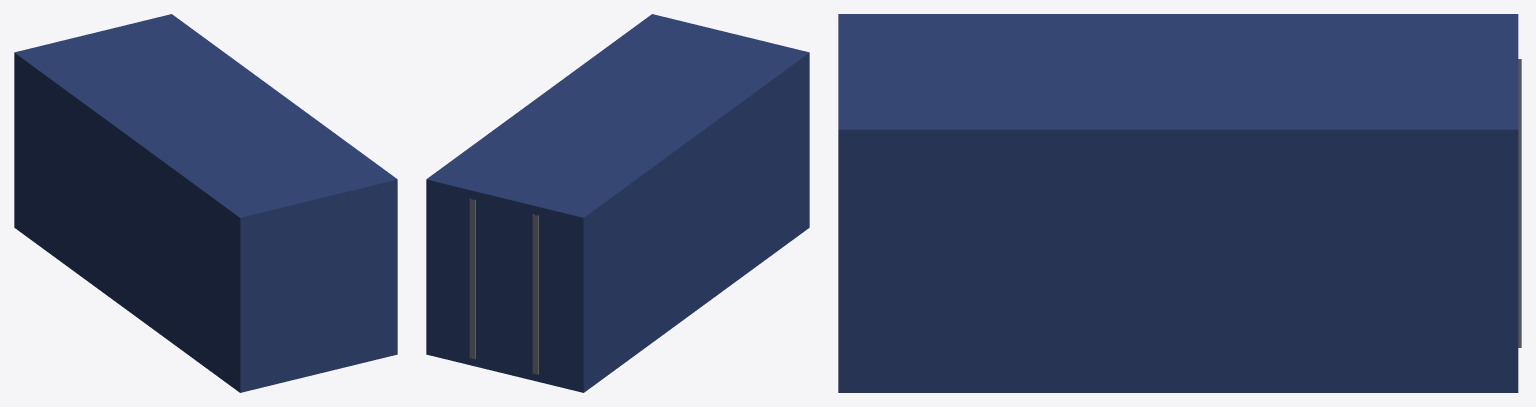
3 views of the same model, side by side, from view 1: azimuth 30°, elevation 25°; view 2: azimuth 150°, elevation 25°; view 3: azimuth 270°, elevation 25° (orthographic). The views are drawn at different scales.
Visible parts, largest first — view 1: 409; view 2: 409; view 3: 409.
Part boxes in pixels (x1=…): 409: x1=14, y1=14, x2=397, y2=392; 409: x1=426, y1=14, x2=809, y2=392; 409: x1=838, y1=14, x2=1521, y2=392.
Bounding box in the file's own units: 2.44 × 2.59 × 6.09.
